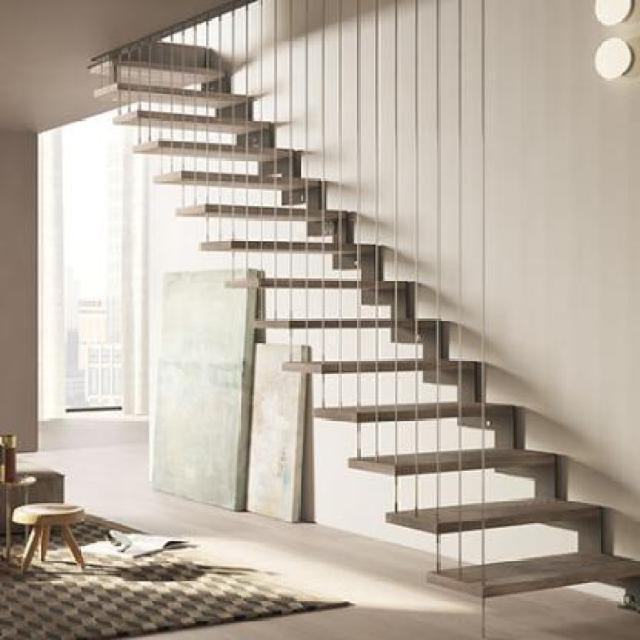stair: (87, 27, 638, 638)
